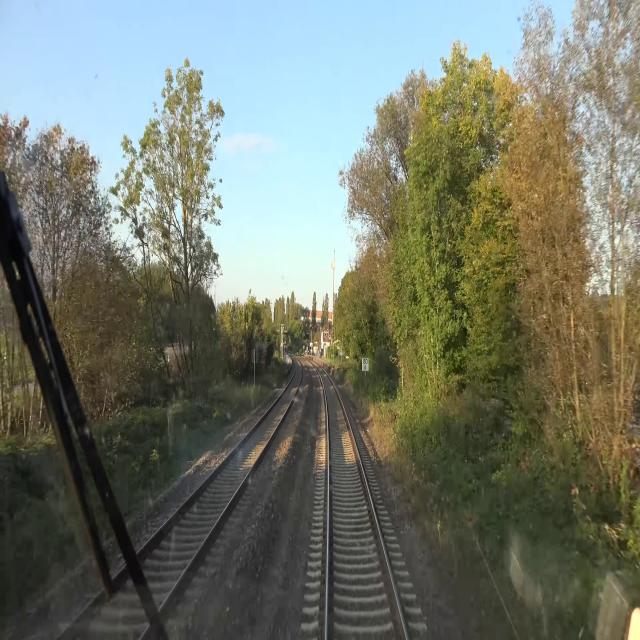rail-track: (154, 363, 300, 584), (319, 369, 405, 639)
